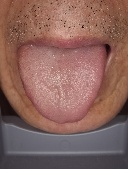tongue: (16, 51, 107, 125)
